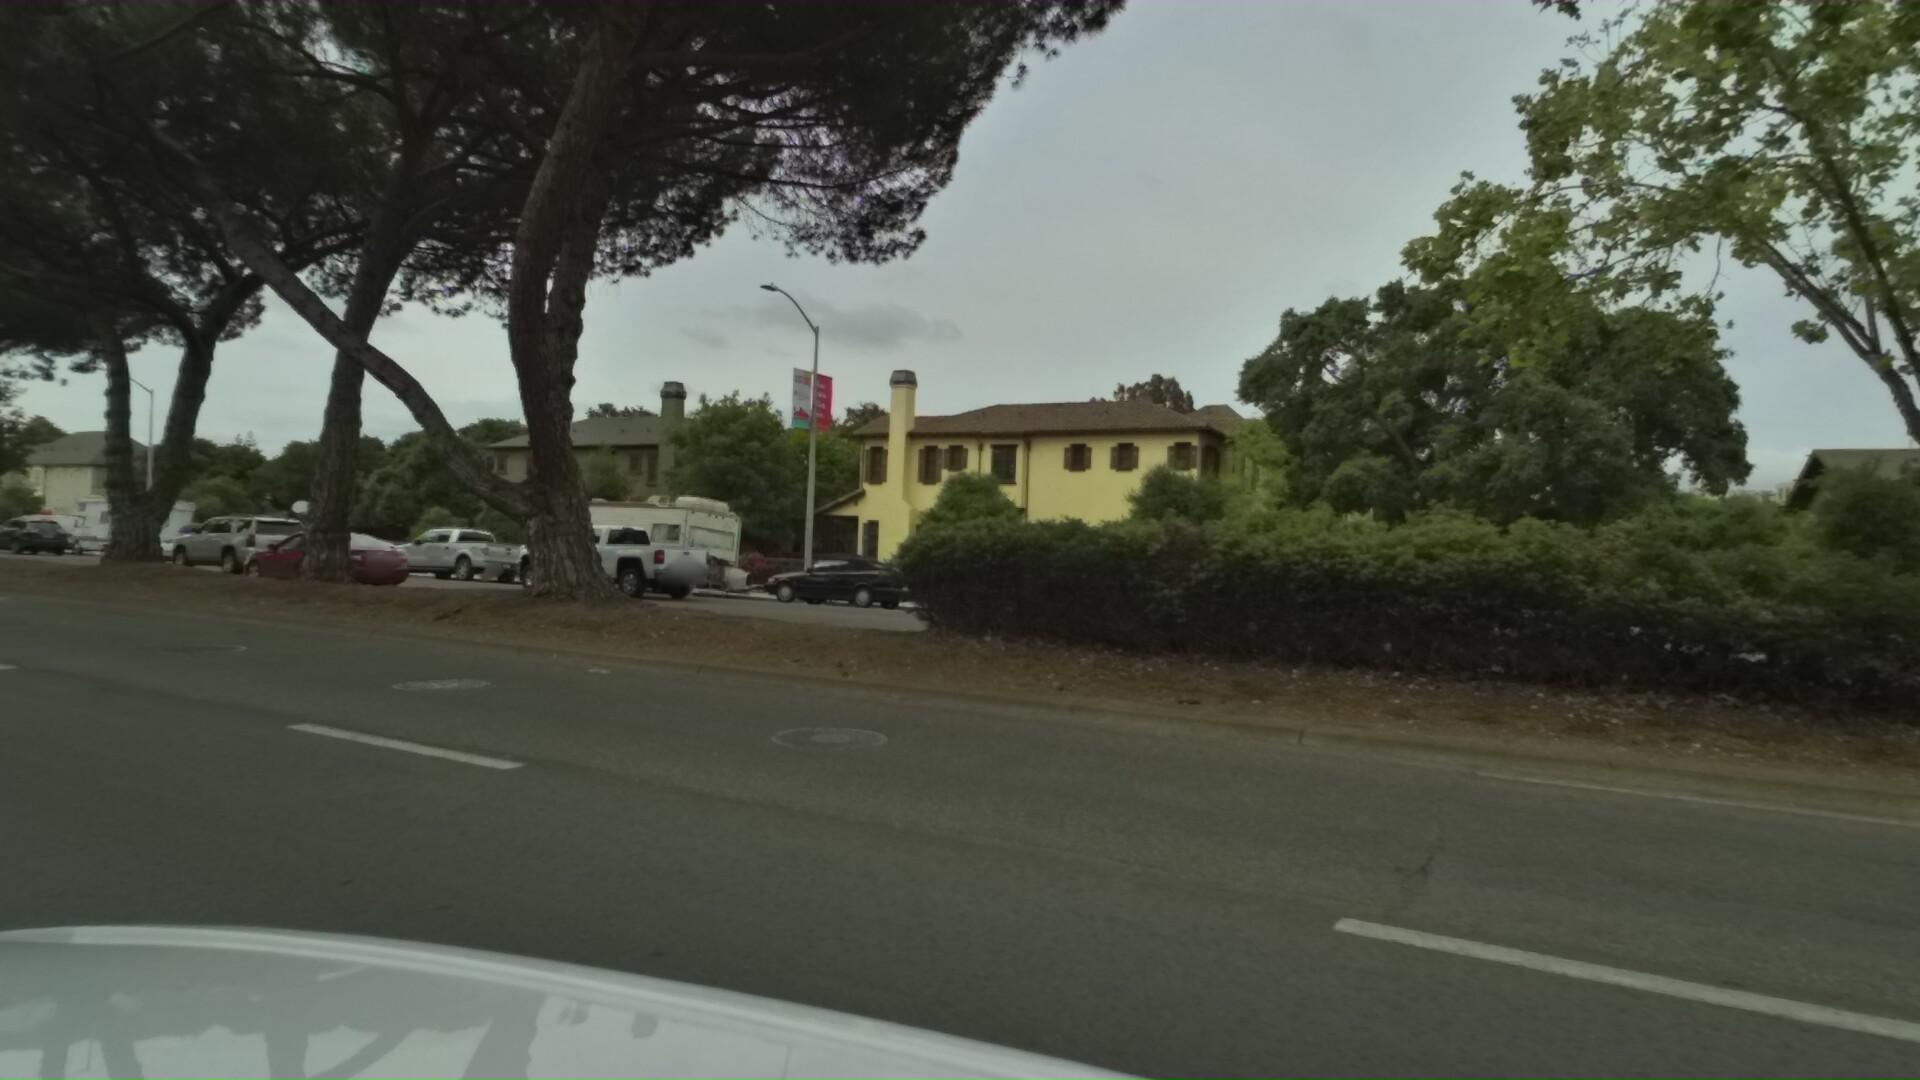car: (479, 516, 692, 599), (210, 522, 386, 597), (733, 553, 905, 616), (367, 525, 530, 589), (148, 510, 305, 576), (287, 533, 401, 580), (0, 513, 88, 559), (0, 517, 65, 558)
other_vehicle: (508, 495, 761, 605), (55, 496, 194, 564)
